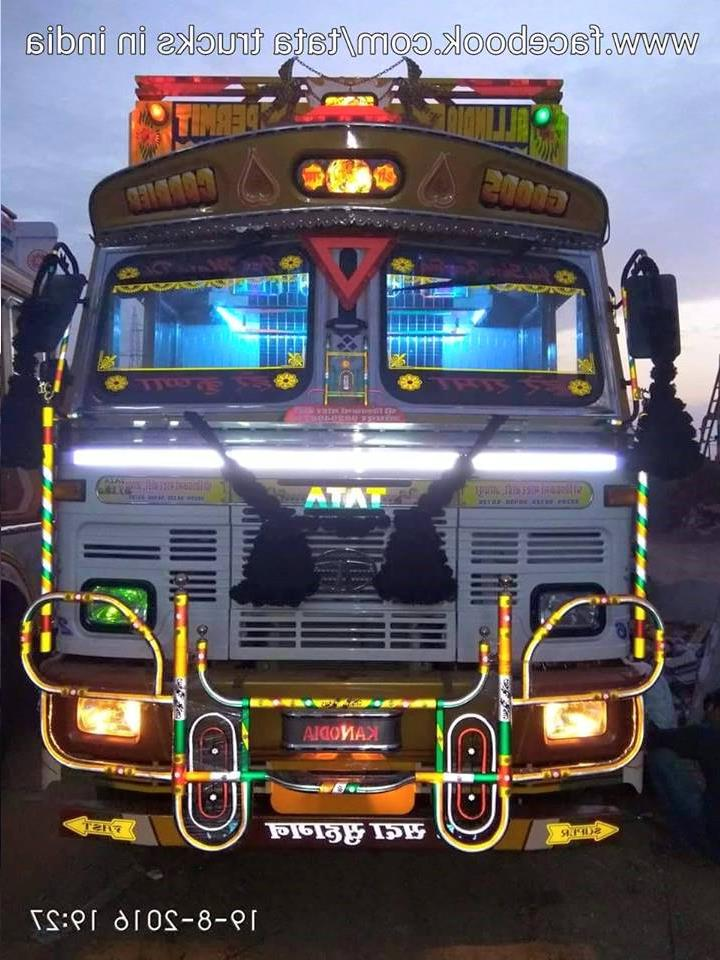truck: (6, 74, 661, 842)
